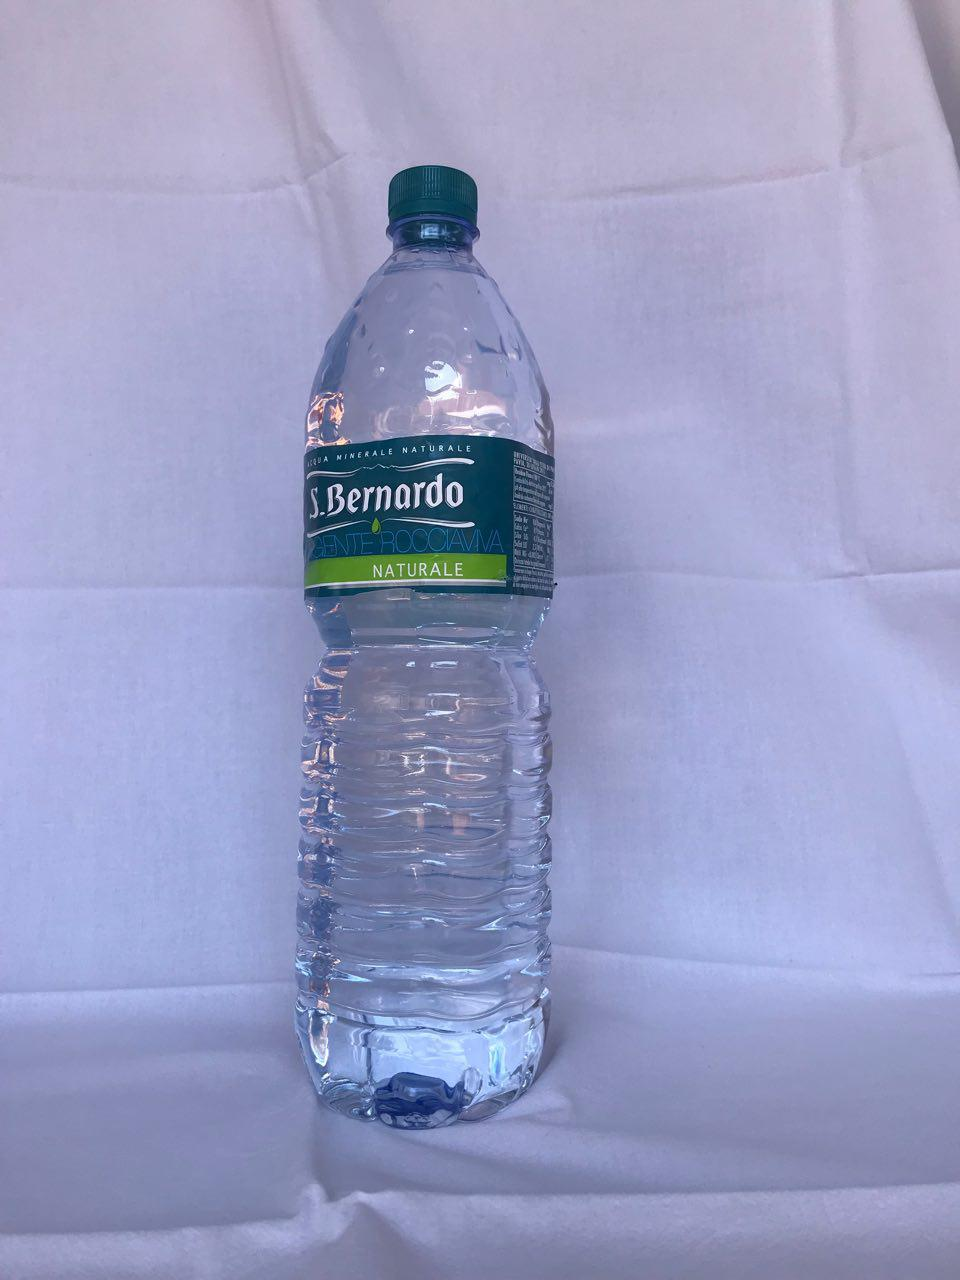san_bernardo: (294, 163, 558, 1130)
